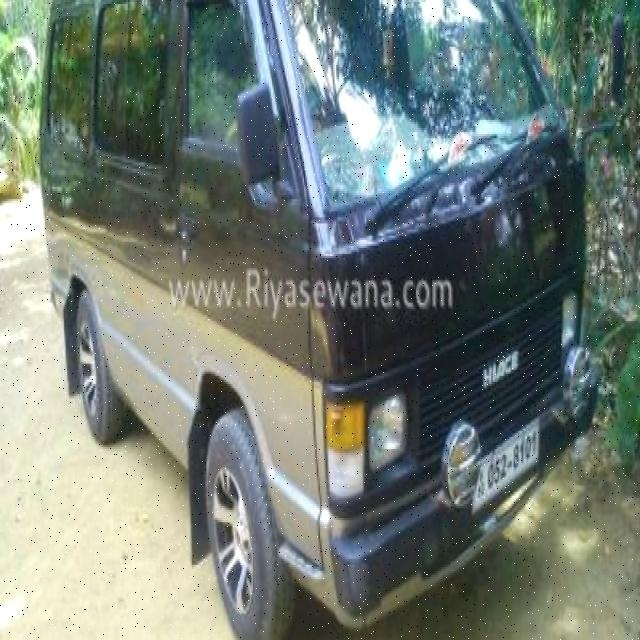Van: (41, 0, 604, 618)
